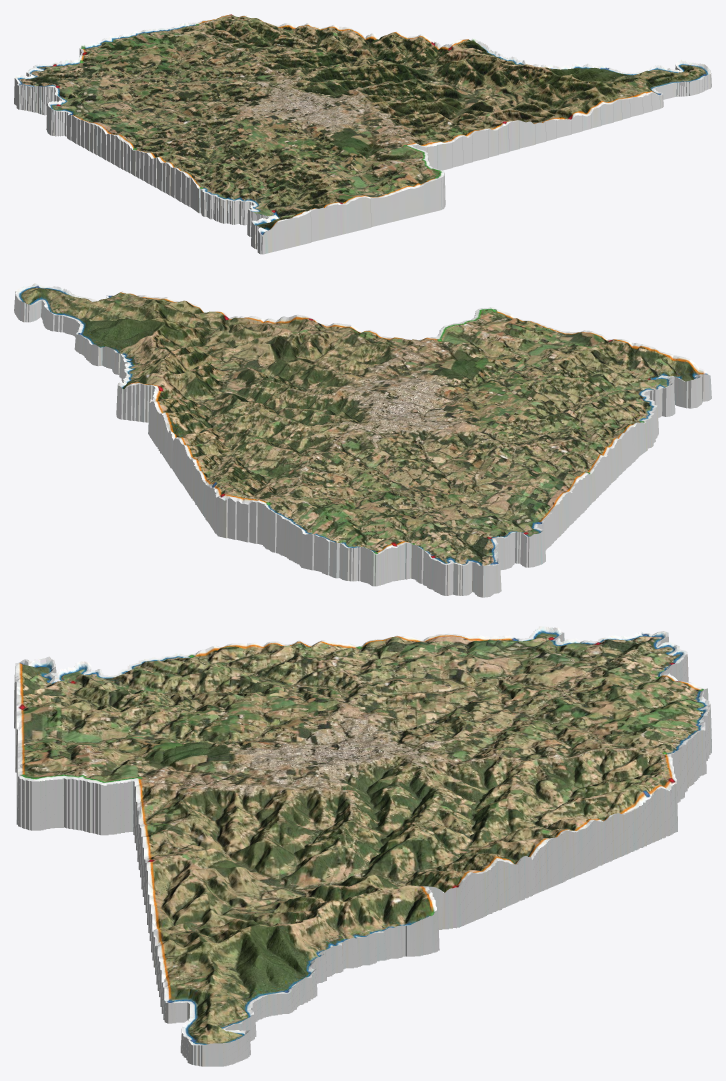
3 views of the same model, one above another, from view 1: azimuth 30°, elevation 25°; view 2: azimuth 150°, elevation 25°; view 3: azimuth 270°, elevation 25° (orthographic). The views are drawn at different scales.
Size of the model in its own units: 0.9999 by 0.063 by 0.7355.
Materials: 1 (1 with a texture image).
